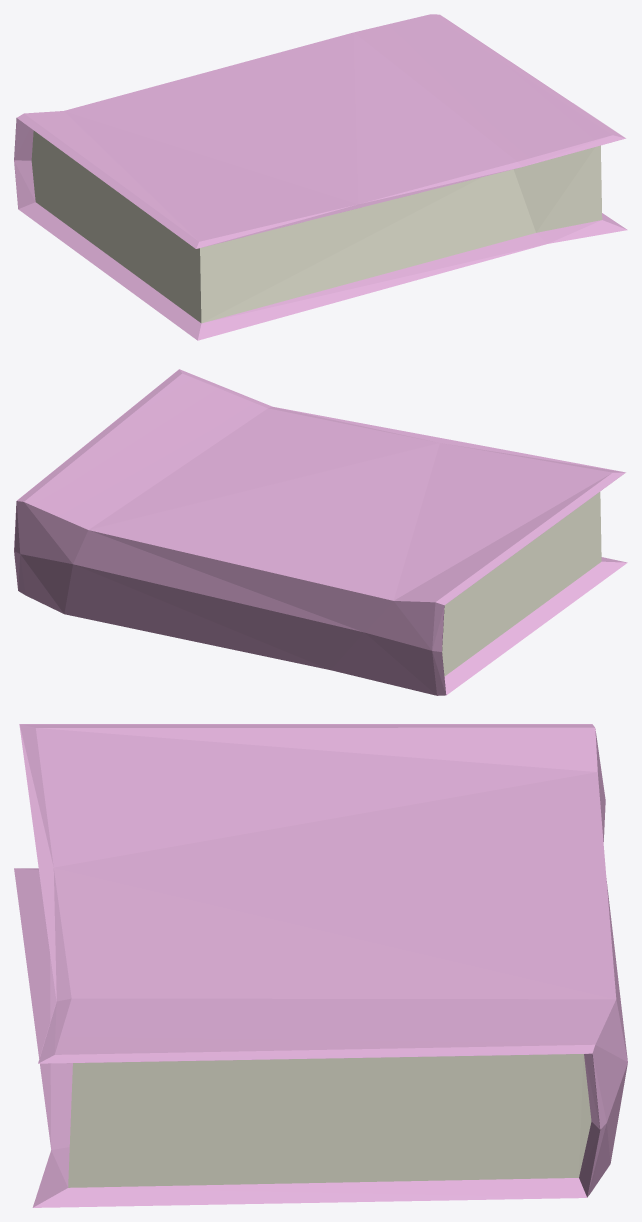
File: Libro lilla.fbx
3 views of the same model, one above another, from view 1: azimuth 30°, elevation 25°; view 2: azimuth 150°, elevation 25°; view 3: azimuth 270°, elevation 25° (orthographic). The views are drawn at different scales.
Visible parts, largest first — view 1: Cube.005; view 2: Cube.005; view 3: Cube.005.
Boxes of the visible parts, bbox=[...] form: Cube.005: bbox=[14, 14, 627, 340]; Cube.005: bbox=[14, 369, 627, 695]; Cube.005: bbox=[14, 724, 627, 1207].
Size of the model in its own units: 206 by 43.63 by 157.
